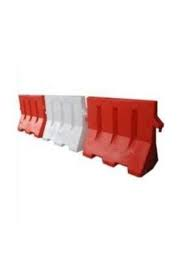barrier: (82, 92, 165, 182), (43, 94, 87, 155), (16, 93, 48, 139)
